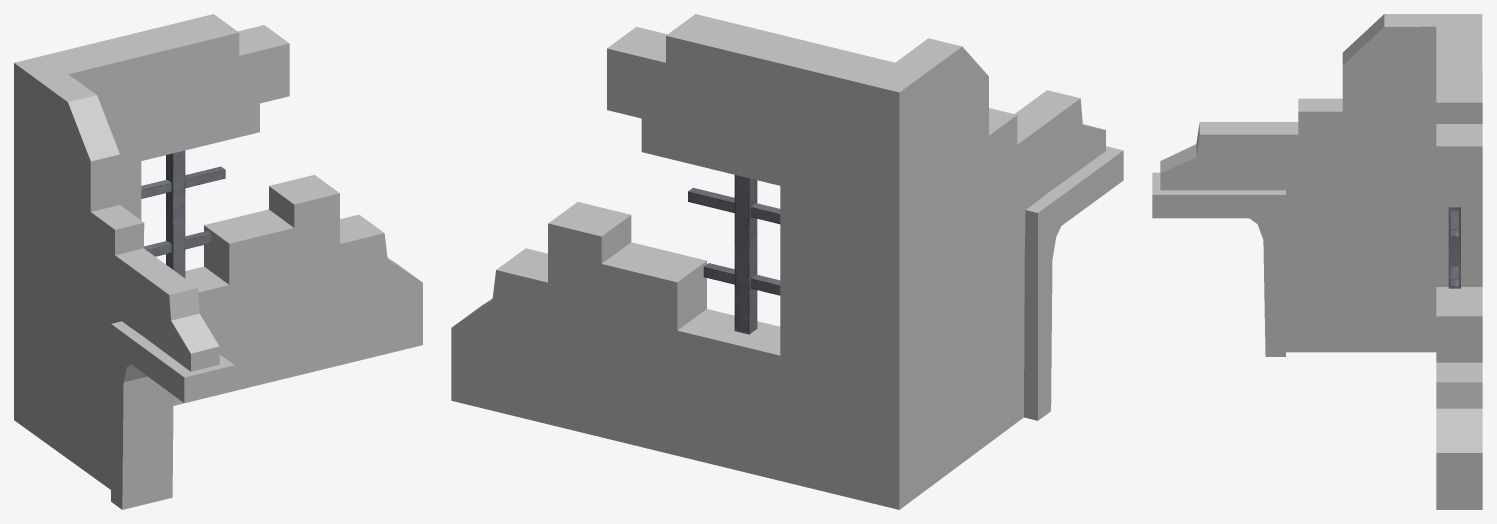
File: destroyed3.fbx
3 renders of one model, left to right at view 1: azimuth 30°, elevation 25°; view 2: azimuth 150°, elevation 25°; view 3: azimuth 270°, elevation 25°, orthographic. The views are drawn at different scales.
Parts seen in each view (by area): view 1: Cube.048, 1.006, 1.008, 1.009; view 2: Cube.048, 1.006, 1.008, 1.009; view 3: Cube.048, 1.006.
Boxes of the visible parts, x1,y1,x2,y2 form: Cube.048: (14,14,422,509); 1.006: (166,150,185,278); 1.008: (141,166,225,198); 1.009: (144,231,211,256); Cube.048: (451,14,1123,509); 1.006: (734,175,757,334); 1.008: (688,187,780,224); 1.009: (703,263,780,295); Cube.048: (1152,14,1482,509); 1.006: (1448,207,1460,288).
Size of the model in its own units: 383 by 332 by 305.
